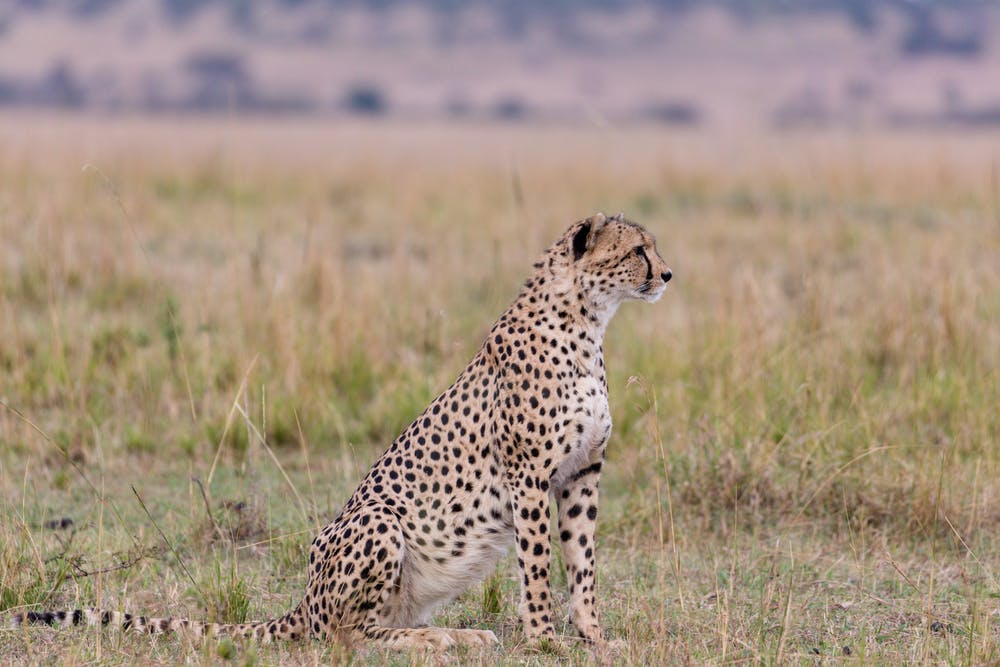cheetah: (560, 202, 685, 318)
